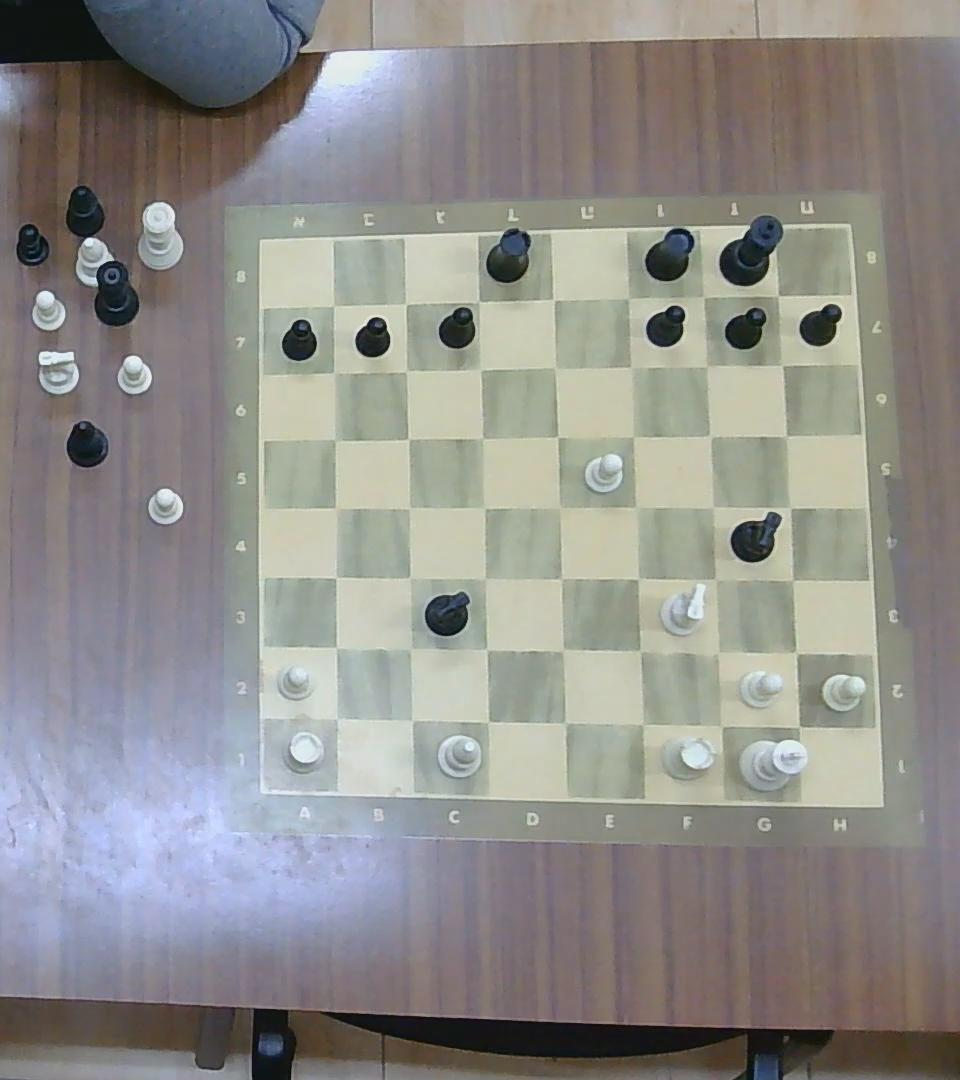xcorner: (781, 708, 815, 742), (703, 707, 737, 740), (702, 636, 734, 669), (626, 707, 658, 740), (548, 706, 579, 738), (470, 633, 501, 665), (471, 704, 502, 736), (780, 637, 812, 668), (776, 563, 808, 594), (625, 633, 655, 666), (320, 701, 351, 732), (622, 563, 652, 594), (547, 634, 578, 664), (395, 703, 425, 734), (700, 563, 730, 594), (547, 563, 577, 593), (394, 633, 424, 662), (320, 562, 350, 591), (320, 633, 350, 662), (622, 491, 651, 520), (698, 491, 727, 520), (394, 562, 423, 591), (616, 351, 645, 380), (470, 564, 500, 592), (467, 422, 495, 451), (775, 492, 804, 520), (619, 421, 648, 449), (539, 284, 567, 313), (545, 492, 573, 520), (470, 492, 498, 520), (543, 421, 571, 449), (540, 352, 568, 380), (393, 425, 422, 452), (692, 352, 721, 379), (395, 492, 423, 519), (322, 494, 350, 521), (615, 283, 643, 310), (696, 422, 723, 448), (768, 351, 795, 377), (393, 356, 419, 382), (465, 287, 491, 313), (322, 358, 348, 384), (690, 284, 717, 309), (322, 426, 348, 451), (467, 355, 492, 380), (393, 291, 418, 315), (773, 423, 798, 447), (767, 283, 790, 307), (322, 294, 345, 316)
